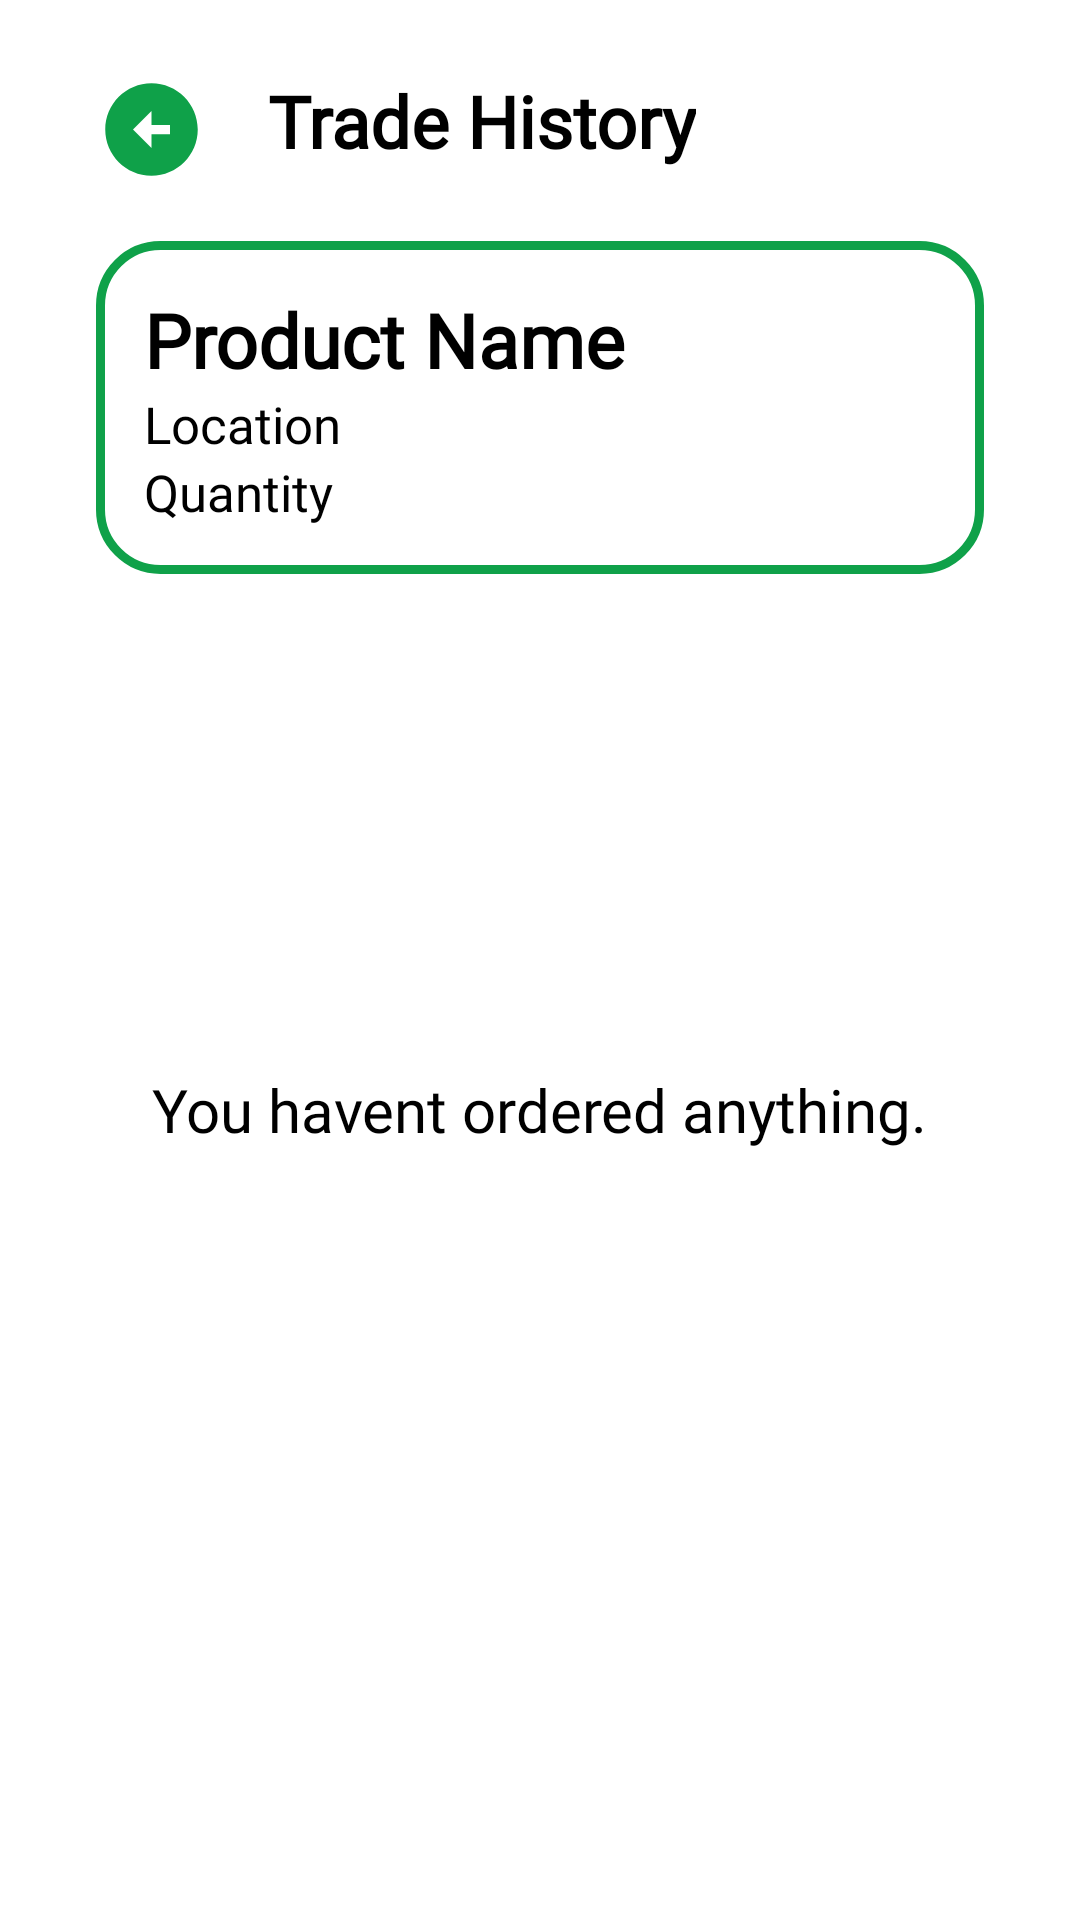

Icons on this 1080x1920 Android screen, each with the point to tap as (x=x, y=y):
arrow back: (x=151, y=129)
